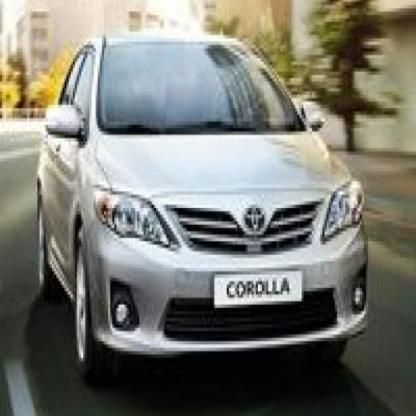Car: (37, 34, 368, 385)
